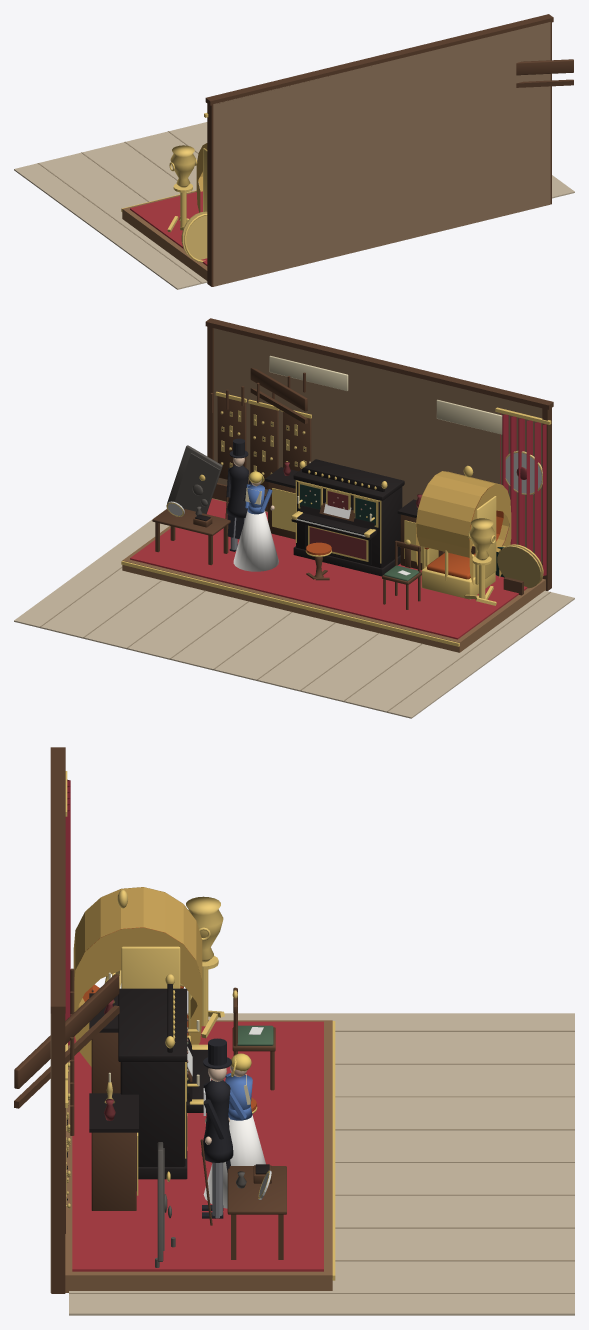
Rendered from scan-fig31-goods-for-the-home-muse.glb.
The picture shows the model from 3 angles, top to bottom: view 1: azimuth 30°, elevation 25°; view 2: azimuth 150°, elevation 25°; view 3: azimuth 270°, elevation 25°; orthographic projection. The views are drawn at different scales.
Parts seen in each view (by area): view 1: display_wall, floor_boards, wall_top_cornice, platform_carpet, platform, wall_side_post_-2.78, tray_lean_1, diagonal_carved_panel, urn_vase, diagonal_rail_lower; view 2: floor_boards, display_wall, platform_carpet, platform, hooded_hood_shell, curtain_right, wall_top_cornice, piano_case, woman_skirt, piano_top_lid, door_board_1, door_board_0 (+23 smaller); view 3: floor_boards, platform_carpet, platform, piano_case, hooded_hood_shell, piano_top_lid, hooded_hood_cheek_1, wall_top_cornice, wall_side_post_2.78, side_cabinet_1, hooded_wing_0.44, front_table_top (+11 smaller).
Boxes of the visible parts, <box> form: display_wall: <box>213,22,550,286</box>; floor_boards: <box>14,122,574,289</box>; wall_top_cornice: <box>205,14,553,105</box>; platform_carpet: <box>130,191,207,265</box>; platform: <box>122,190,207,280</box>; wall_side_post_-2.78: <box>207,104,213,286</box>; tray_lean_1: <box>181,211,207,259</box>; diagonal_carved_panel: <box>516,59,573,75</box>; urn_vase: <box>170,145,195,187</box>; diagonal_rail_lower: <box>516,79,573,87</box>; floor_boards: <box>14,509,574,718</box>; display_wall: <box>214,328,542,561</box>; platform_carpet: <box>130,499,527,639</box>; platform: <box>122,498,545,652</box>; hooded_hood_shell: <box>416,471,509,557</box>; curtain_right: <box>500,413,546,575</box>; wall_top_cornice: <box>205,318,553,409</box>; piano_case: <box>296,480,402,568</box>; woman_skirt: <box>233,510,278,571</box>; piano_top_lid: <box>293,459,404,500</box>; door_board_1: <box>250,404,278,489</box>; door_board_0: <box>217,396,246,479</box>; floor_boards: <box>69,1013,574,1315</box>; platform_carpet: <box>72,1021,323,1271</box>; platform: <box>65,1020,332,1292</box>; piano_case: <box>120,1062,185,1166</box>; hooded_hood_shell: <box>73,887,202,1022</box>; piano_top_lid: <box>118,988,187,1061</box>; hooded_hood_cheek_1: <box>74,927,202,1066</box>; wall_top_cornice: <box>50,747,65,1013</box>; wall_side_post_2.78: <box>51,1013,65,1293</box>; side_cabinet_1: <box>91,1132,136,1210</box>; hooded_wing_0.44: <box>121,946,180,988</box>; front_table_top: <box>227,1166,286,1214</box>.
Bounding box in the file's own units: 6.6 × 2.96 × 5.21.
